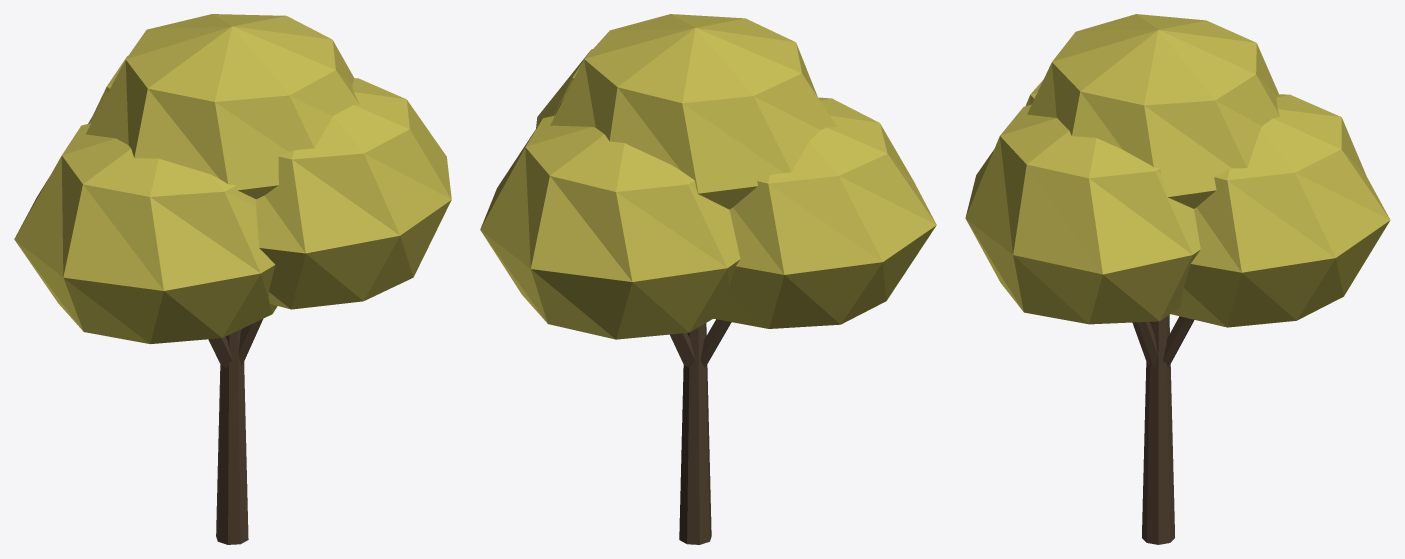
The model's file is tree_yellow.glb.
3 renders of one model, left to right at view 1: azimuth 30°, elevation 25°; view 2: azimuth 150°, elevation 25°; view 3: azimuth 270°, elevation 25°, orthographic.
Parts seen in each view (by area): view 1: tree_yellow; view 2: tree_yellow; view 3: tree_yellow.
Boxes of the visible parts, x1,y1,x2,y2 form: tree_yellow: (14, 14, 451, 544); tree_yellow: (480, 14, 936, 544); tree_yellow: (965, 14, 1390, 544).
Bounding box in the file's own units: 6.47 × 8.07 × 6.12.
